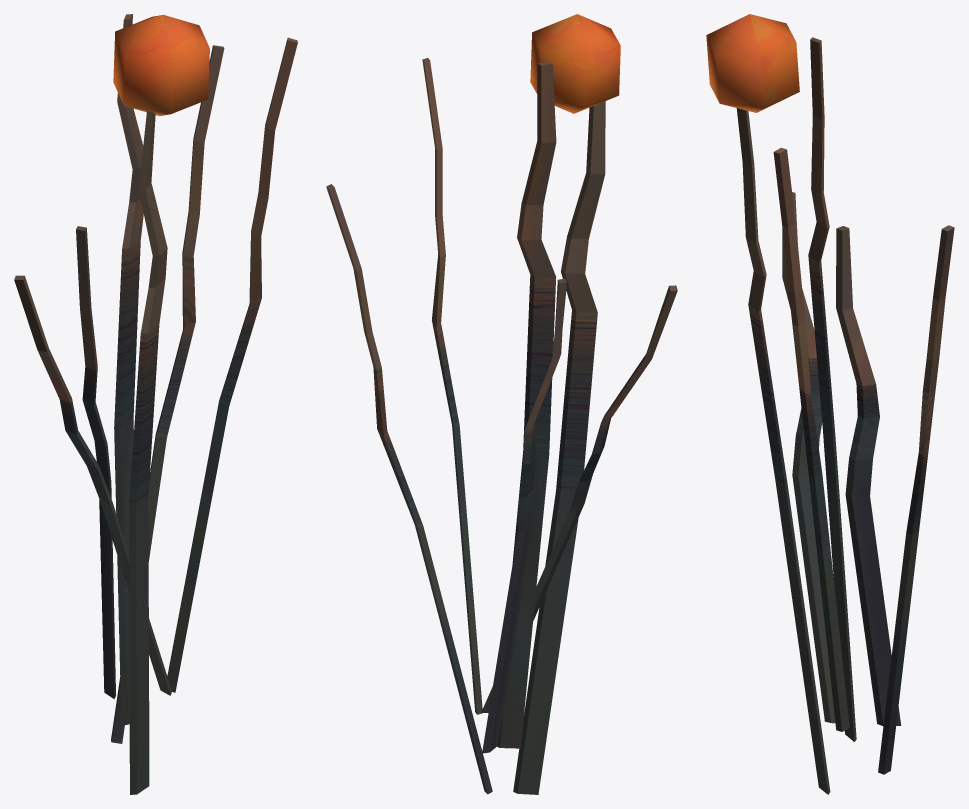
The model's file is PlantStemAndFruits.FBX.
The picture shows the model from 3 angles, left to right: view 1: azimuth 30°, elevation 25°; view 2: azimuth 150°, elevation 25°; view 3: azimuth 270°, elevation 25°; orthographic projection. The views are drawn at different scales.
Parts seen in each view (by area): view 1: 花杆, 花球; view 2: 花杆, 花球; view 3: 花杆, 花球.
Boxes of the visible parts, x1,y1,x2,y2 form: 花杆: [14, 14, 297, 794]; 花球: [113, 14, 209, 115]; 花杆: [326, 58, 677, 794]; 花球: [530, 14, 620, 113]; 花杆: [736, 37, 954, 794]; 花球: [706, 14, 799, 112].
Size of the model in its own units: 12.95 by 34.19 by 10.
2 materials, 2 textured.
